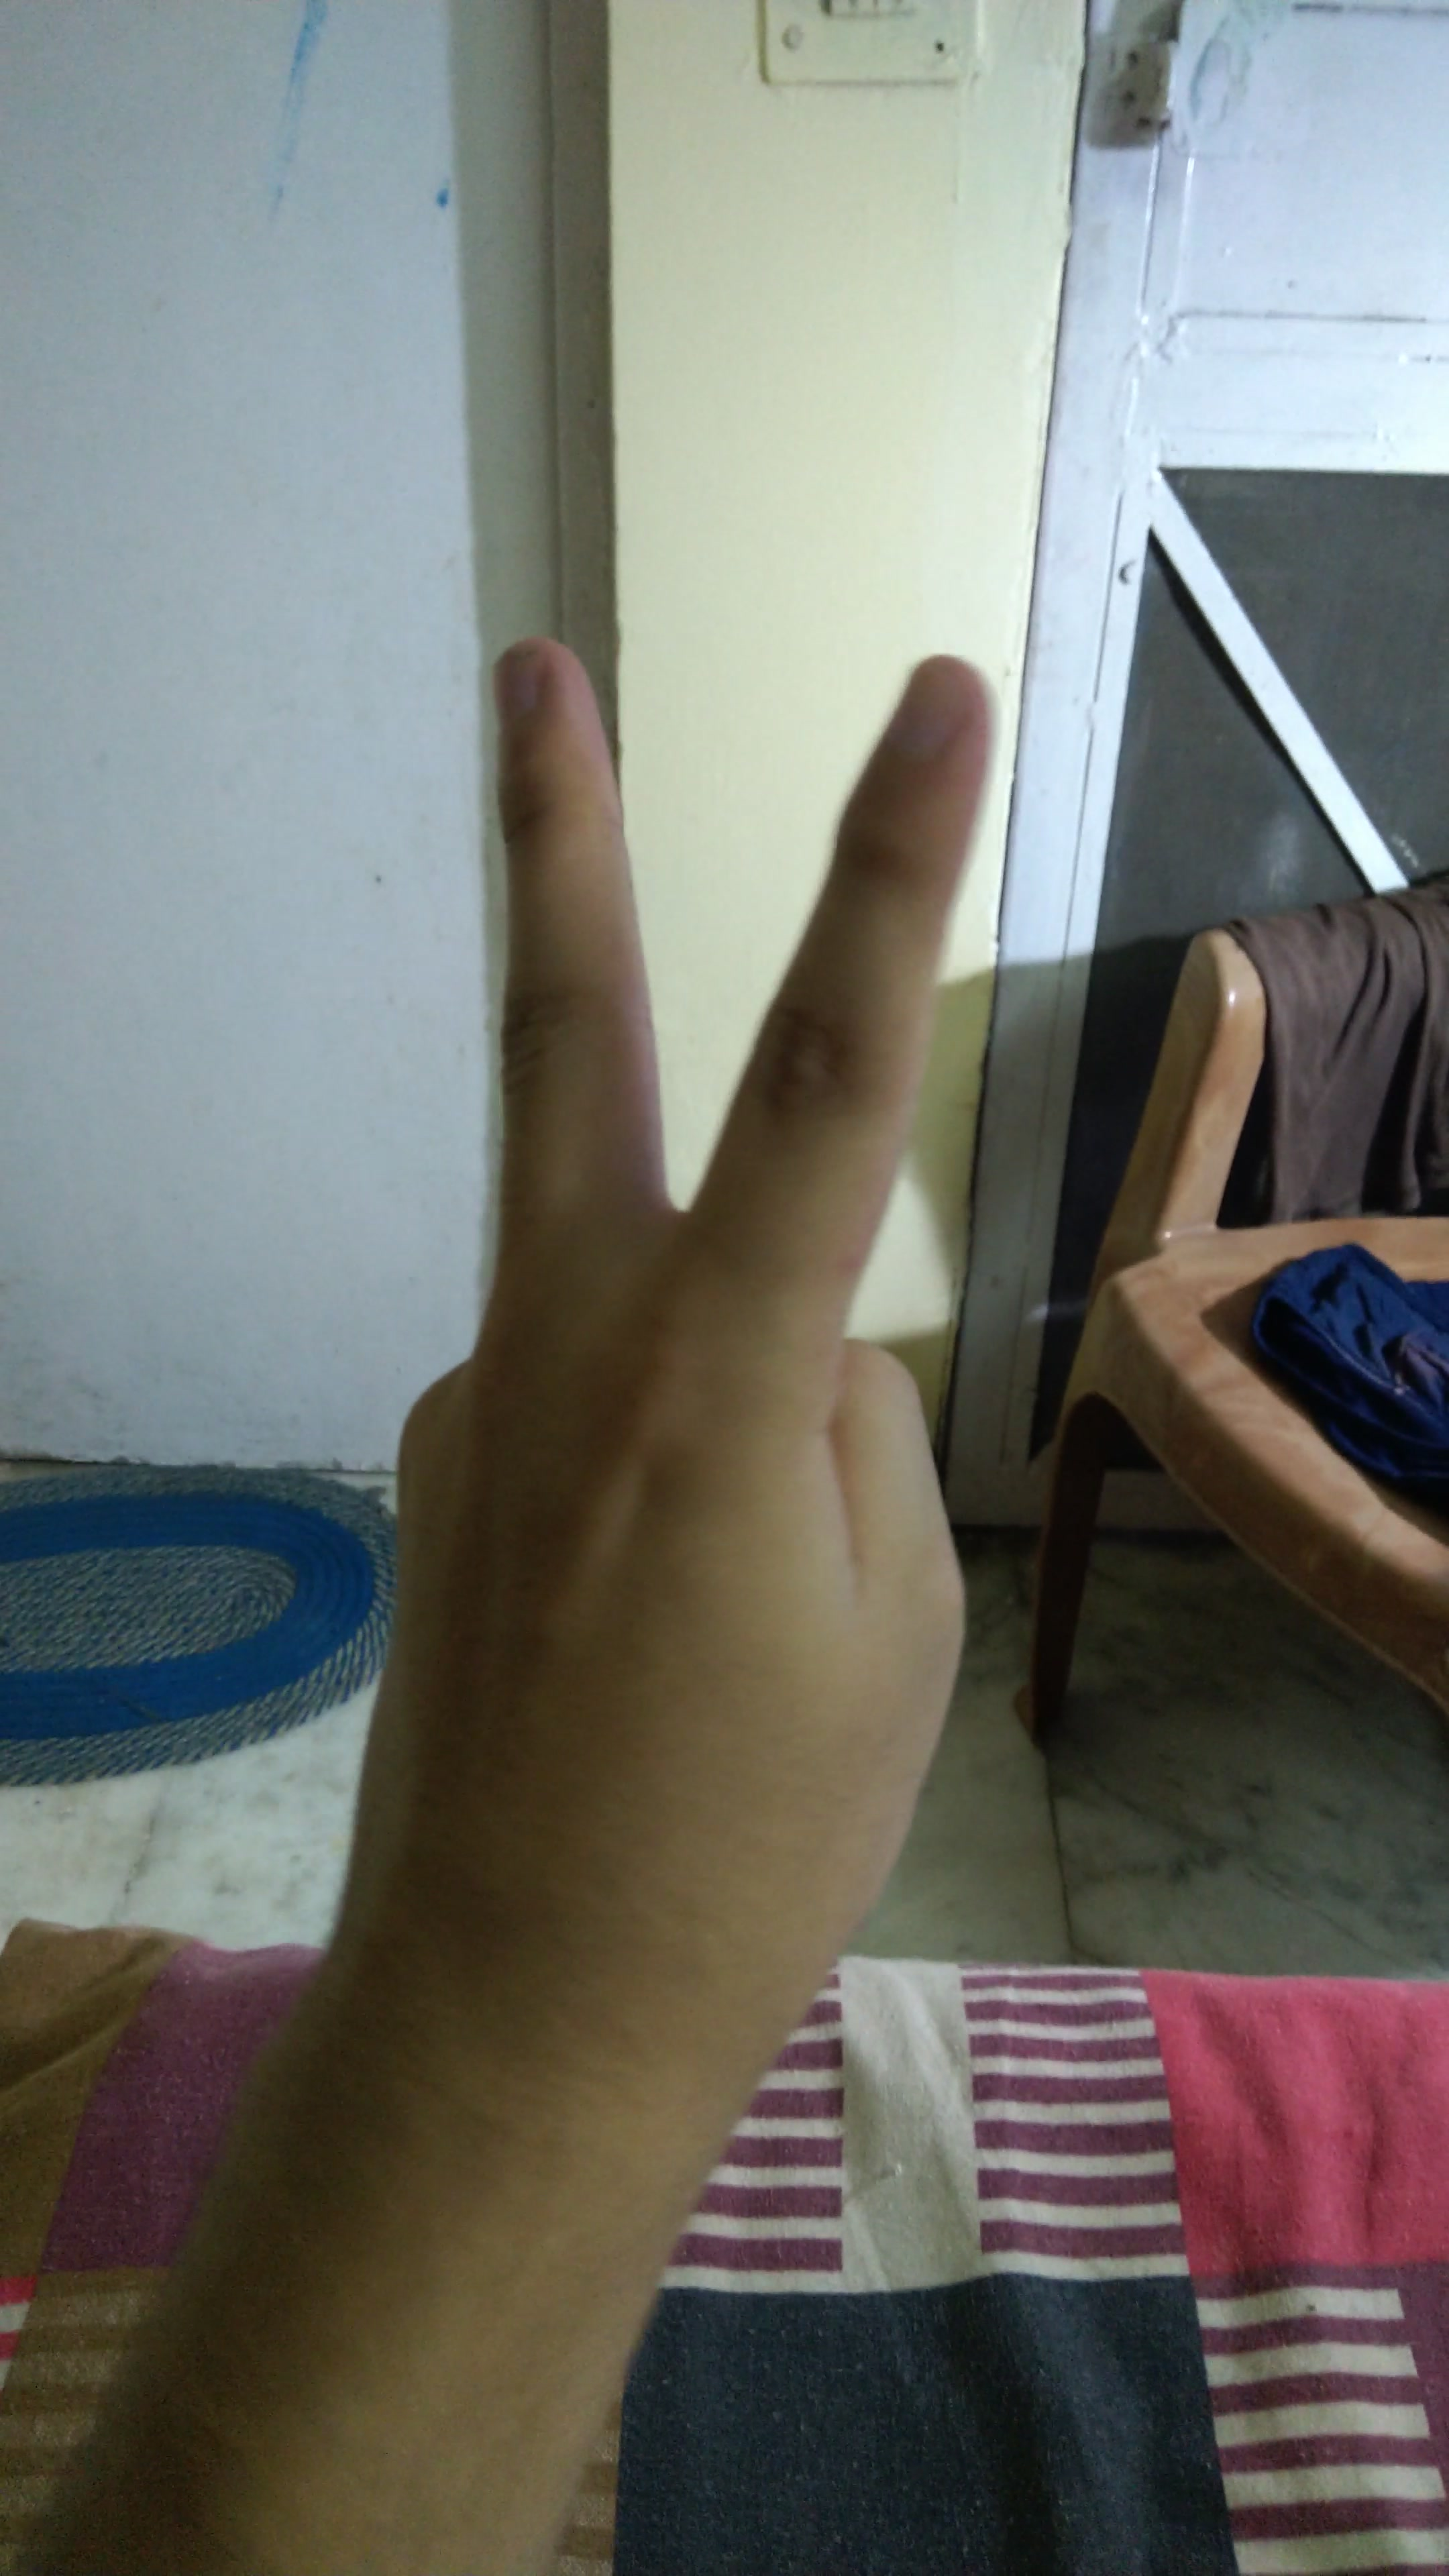hand: (69, 589, 1175, 2026)
